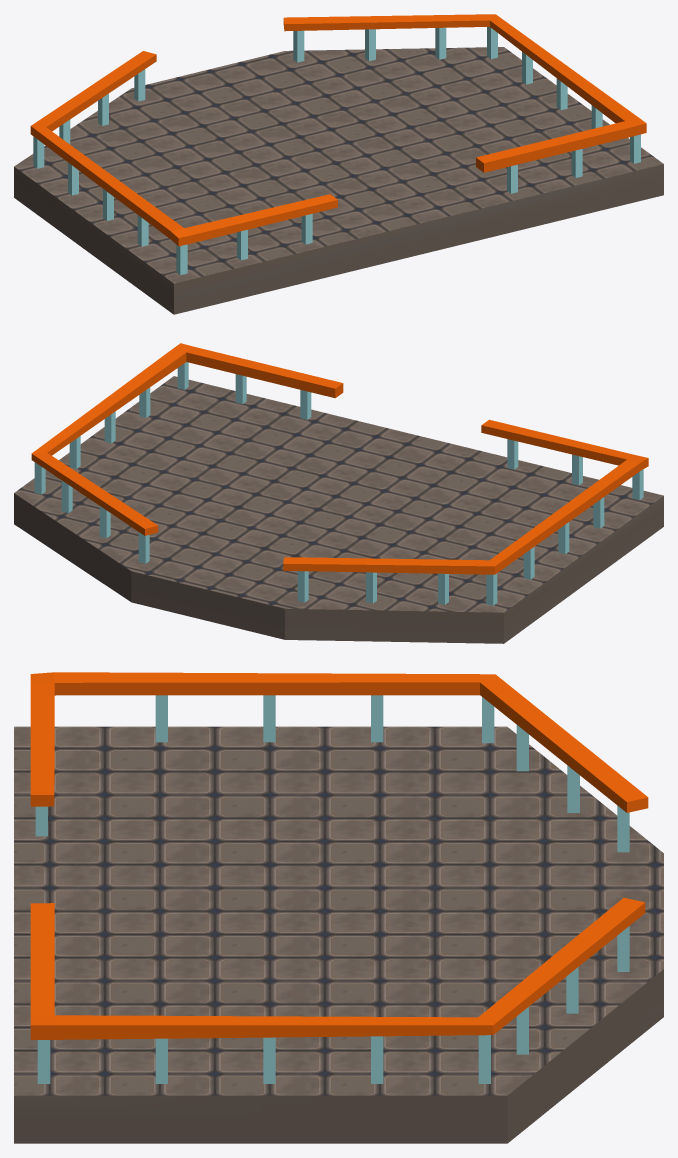
The model's file is 4th floor.fbx.
3 renders of one model, top to bottom at view 1: azimuth 30°, elevation 25°; view 2: azimuth 150°, elevation 25°; view 3: azimuth 270°, elevation 25°, orthographic. The views are drawn at different scales.
Parts seen in each view (by area): view 1: Final, Railings.007; view 2: Final, Railings.007; view 3: Final, Railings.007.
Part boxes in pixels (x1=…): Final: x1=14, y1=47, x2=663, y2=314; Railings.007: x1=30, y1=14, x2=646, y2=274; Final: x1=14, y1=376, x2=663, y2=643; Railings.007: x1=31, y1=343, x2=648, y2=605; Final: x1=14, y1=726, x2=663, y2=1143; Railings.007: x1=30, y1=672, x2=648, y2=1083.
Size of the model in its own units: 1052 by 147 by 784.
